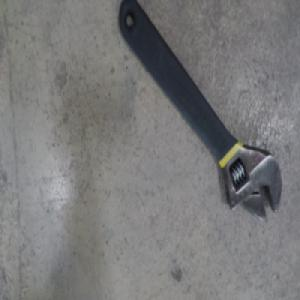AdjustableWrench: (119, 4, 281, 220)
